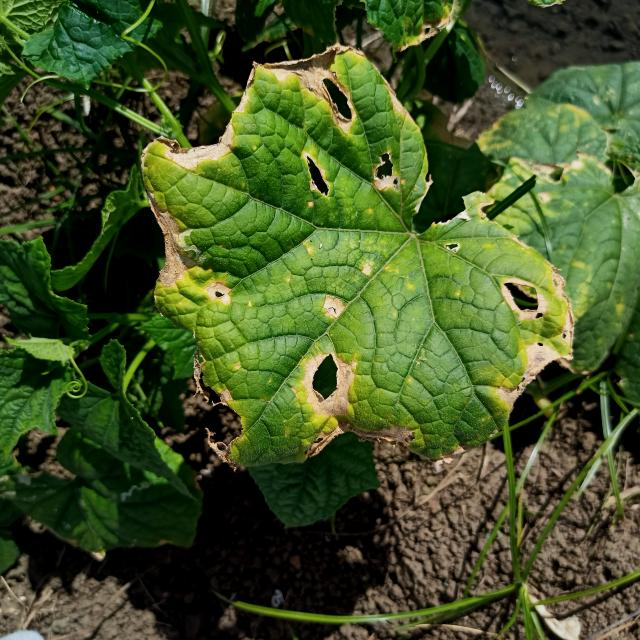disease_cucumber: (144, 51, 576, 464)
